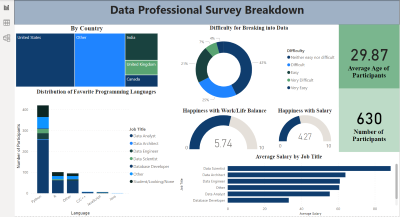

Layout of this report page (visuals, bound fields, positions):
{"tool":"powerbi","page":{"name":"Page 1","canvas":[1280,720],"ordinal":0},"visuals":[{"type":"textbox","box":[0,0,1280,81.7],"z":0},{"type":"card","title":"Number of Surveyer","fields":{"Values":["Count(Data Professional Survey.Unique ID)"]},"box":[1078.3,293.3,201.7,211.7],"z":1000},{"type":"card","fields":{"Values":["Avg(Data Professional Survey.Age)"]},"box":[1078.3,81.7,201.7,211.7],"z":2000},{"type":"barChart","fields":{"Y":["Avg(Data Professional Survey.Average Salary)"],"Category":["Data Professional Survey.Job Title"]},"box":[545.6,508.9,734.4,211.1],"z":2001},{"type":"columnChart","title":"Distribution of Favorite Programming Languages","fields":{"Category":["Data Professional Survey.Favorite Programming Language"],"Y":["CountNonNull(Data Professional Survey.Unique ID)"],"Series":["Data Professional Survey.Job Title"]},"box":[0,294.4,545.6,425.6],"z":2002},{"type":"treemap","title":"By Country","fields":{"Values":["CountNonNull(Data Professional Survey.Country)"],"Group":["Data Professional Survey.Country"]},"box":[0,81.7,481.7,211.7],"z":2003},{"type":"gauge","title":"Happiness with Work/Life Balance","fields":{"Y":["Avg(Data Professional Survey.Happiness in Current Position with Work/Life Balance)"],"MinValue":["Min(Data Professional Survey.Happiness in Current Position with Work/Life Balance)"],"MaxValue":["Max(Data Professional Survey.Happiness in Current Position with Work/Life Balance)"]},"box":[545.6,356.7,307.8,148.9],"z":2004},{"type":"gauge","title":"Happiness with Salary","fields":{"Y":["Avg(Data Professional Survey.Happiness in Current Position with Salary)"],"MinValue":["Min(Data Professional Survey.Happiness in Current Position with Salary)"],"MaxValue":["Max(Data Professional Survey.Happiness in Current Position with Salary)"]},"box":[853.3,356.7,225.6,148.9],"z":2005},{"type":"donutChart","title":"Difficulty for Breaking into Data","fields":{"Category":["Data Professional Survey.Starting Data Difficulty"],"Y":["CountNonNull(Data Professional Survey.Starting Data Difficulty)"]},"box":[481.7,81.7,596.7,278.3],"z":2006}]}

Visuals, with their boxes on the page's 1280x720 design canvas (x1, y1, x2, y2). These are canvas units, not pixel positions in the 400x217 screenshot, which may show the page scaled, cropped or inside an application window:
textbox: {"x1": 0, "y1": 0, "x2": 1280, "y2": 82}
"Number of Surveyer" card: {"x1": 1078, "y1": 293, "x2": 1280, "y2": 505}
card - Avg(Data Professional Survey.Age): {"x1": 1078, "y1": 82, "x2": 1280, "y2": 293}
barChart - Avg(Data Professional Survey.Average Salary) x Data Professional Survey.Job Title: {"x1": 546, "y1": 509, "x2": 1280, "y2": 720}
"Distribution of Favorite Programming Languages" columnChart: {"x1": 0, "y1": 294, "x2": 546, "y2": 720}
"By Country" treemap: {"x1": 0, "y1": 82, "x2": 482, "y2": 293}
"Happiness with Work/Life Balance" gauge: {"x1": 546, "y1": 357, "x2": 853, "y2": 506}
"Happiness with Salary" gauge: {"x1": 853, "y1": 357, "x2": 1079, "y2": 506}
"Difficulty for Breaking into Data" donutChart: {"x1": 482, "y1": 82, "x2": 1078, "y2": 360}
